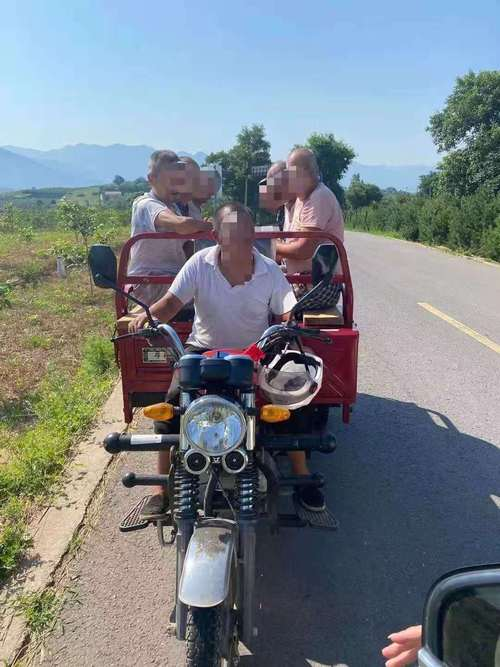driver: (167, 196, 299, 386)
overloading: (85, 127, 390, 655)
passenger: (280, 147, 354, 268), (122, 140, 179, 292), (184, 164, 225, 255), (169, 149, 201, 265), (267, 159, 312, 238), (251, 174, 294, 229)
